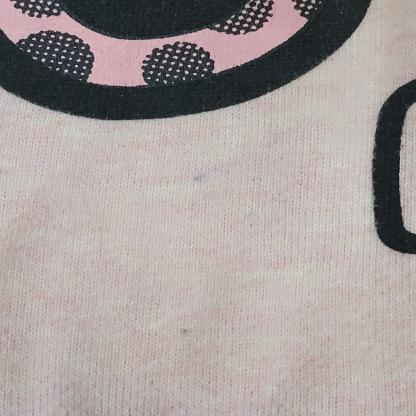spot: (194, 171, 208, 184)
